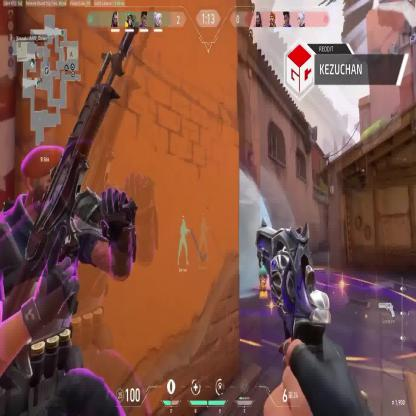enemy: (0, 145, 138, 416)
enemy_head: (20, 143, 74, 216)
